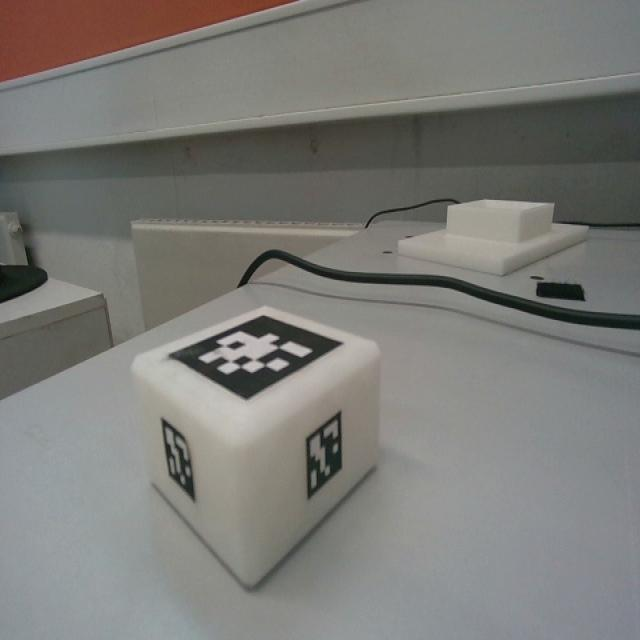Cube: (135, 304, 382, 593)
